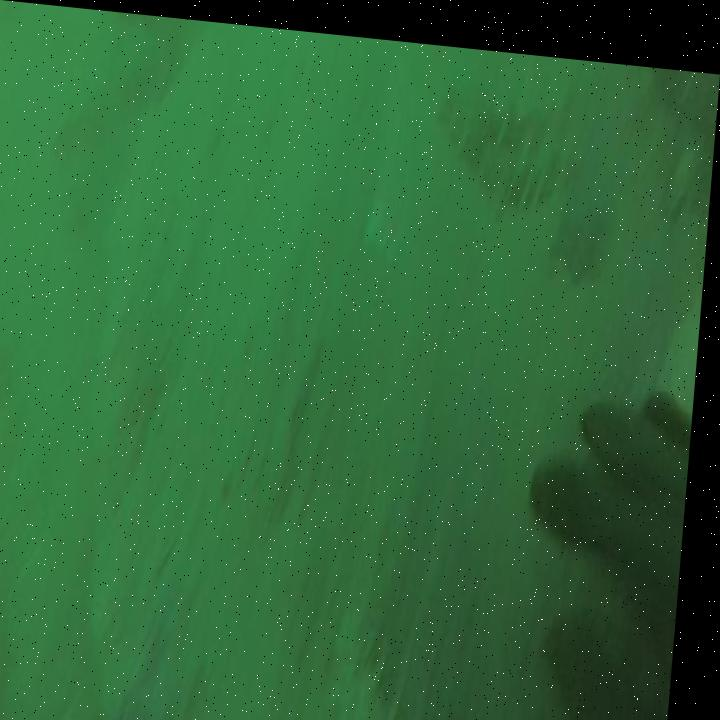holothurian: (426, 67, 576, 212), (323, 581, 433, 720)
starfish: (112, 559, 222, 720), (545, 160, 618, 275)
